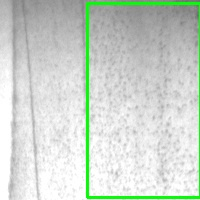pitted_surface: (87, 3, 200, 197)
